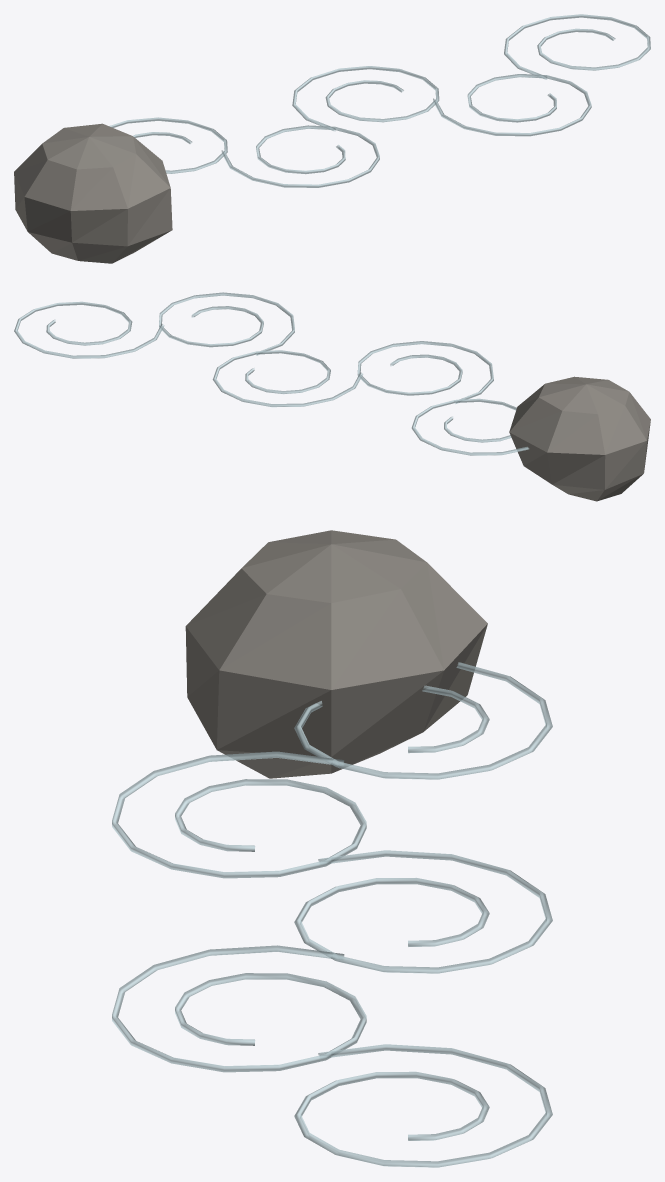
The model's file is lake-karman-shallows-0.glb.
3 views of the same model, one above another, from view 1: azimuth 30°, elevation 25°; view 2: azimuth 150°, elevation 25°; view 3: azimuth 270°, elevation 25° (orthographic). The views are drawn at different scales.
Visible parts, largest first — view 1: lake-karman-shallows-0; view 2: lake-karman-shallows-0; view 3: lake-karman-shallows-0.
Boxes of the visible parts, box(x1,y1,x2,y2) form: lake-karman-shallows-0: box(14, 14, 650, 263); lake-karman-shallows-0: box(14, 292, 650, 501); lake-karman-shallows-0: box(112, 530, 552, 1167).
Bounding box in the file's own units: 2.73 × 0.4655 × 0.8648.
